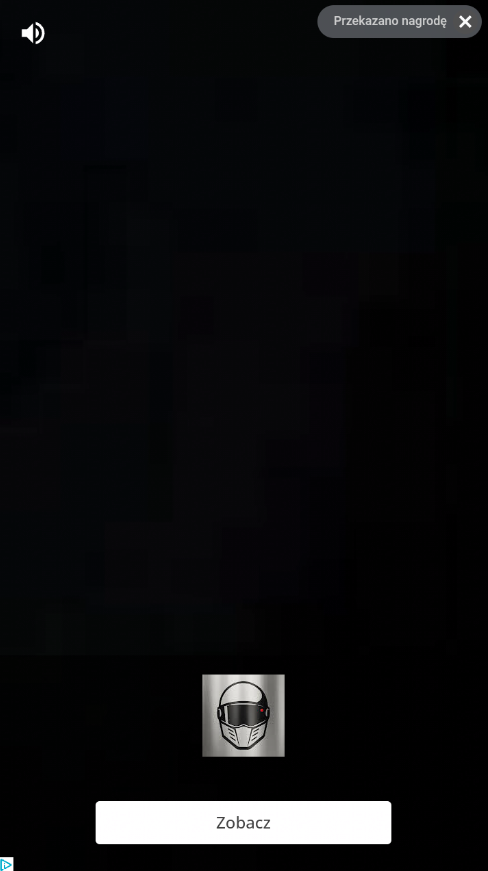close_button: (455, 11, 474, 34)
